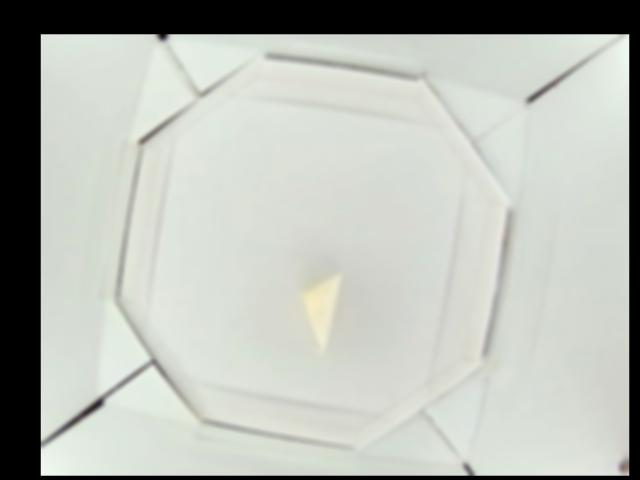Mooli: (300, 271, 343, 351)
